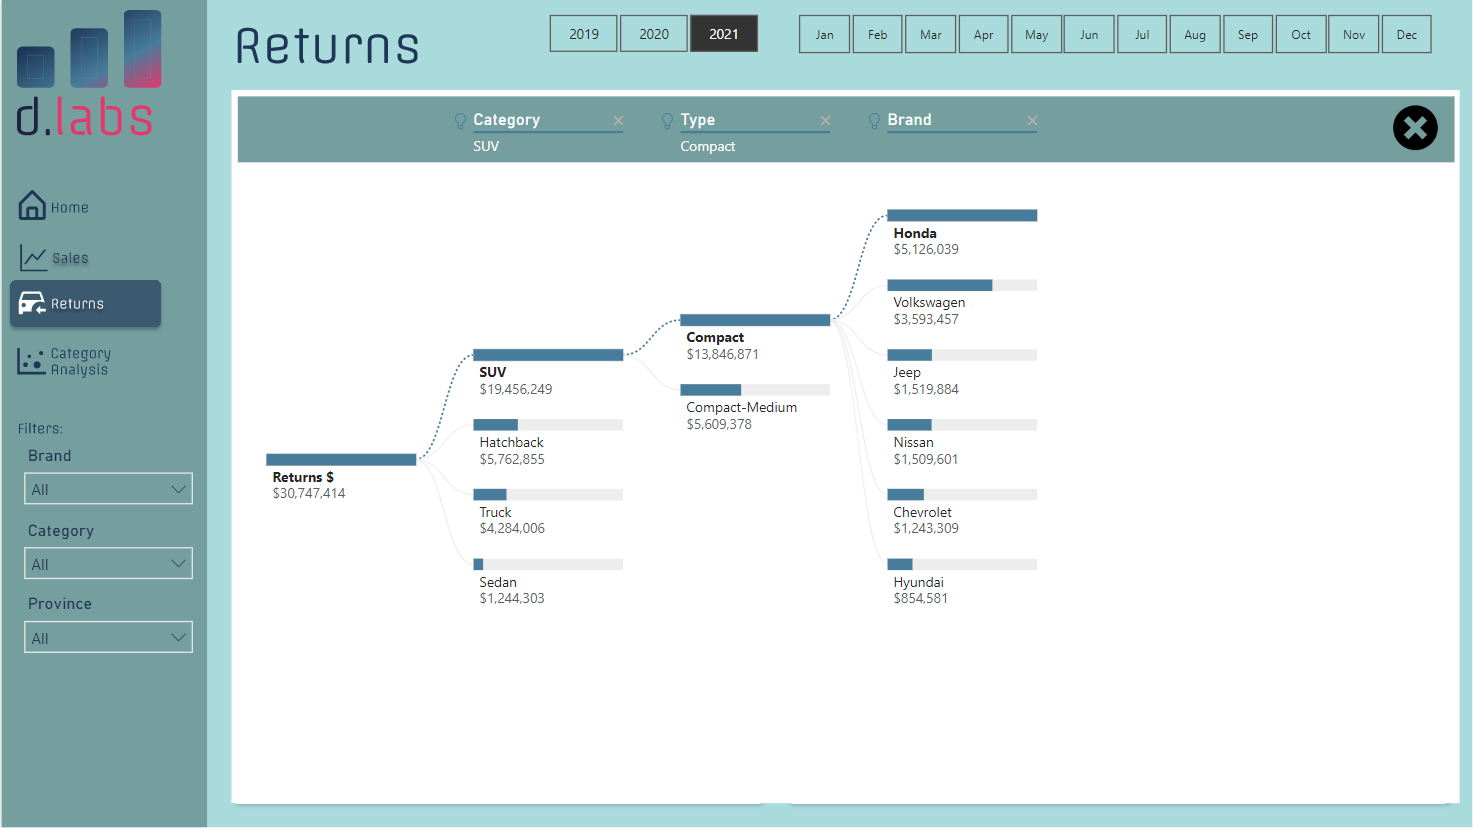

This screenshot's page, from the dashboard's own definition file:
{"tool":"powerbi","page":{"name":"Returns","canvas":[1280,720],"ordinal":2},"visuals":[{"type":"card","title":"Returns","fields":{"Values":["Measures (2).Returns $"]},"box":[249.5,93.7,156.8,64.2],"z":0},{"type":"card","title":"% Returns","fields":{"Values":["Measures (2).% Returns"]},"box":[503.2,93.7,156.8,64.2],"z":1000},{"type":"card","title":"Returns","fields":{"Values":["Measures (2).Returns Units"]},"box":[761.1,93.7,156.8,64.2],"z":2000},{"type":"slicer","title":"SlicerM","fields":{"Values":["dCalendar.Month mmm"]},"box":[668,6,600,47],"z":3000},{"type":"slicer","title":"SlicerY","fields":{"Values":["dCalendar.Year"]},"box":[451.6,6.3,230.5,46.3],"z":4000},{"type":"actionButton","box":[11.8,158.2,80,40],"z":5000},{"type":"actionButton","box":[11.8,202.7,80,40],"z":6000},{"type":"slicer","fields":{"Values":["dProdutos.Brand"]},"box":[10.4,382,167,62],"z":7000},{"type":"slicer","fields":{"Values":["dProdutos.Category"]},"box":[10.4,447,167,61],"z":8000},{"type":"slicer","fields":{"Values":["dClientes.Province"]},"box":[10.4,511,167,61],"z":9000},{"type":"actionButton","title":"Open Tree","box":[958,86,277,80],"z":10000},{"type":"tableEx","title":"Ret Product Table","fields":{"Values":["dProdutos.ImagemProduto","dProdutos.NomeProduto","Measures (2).Returns $","Measures (2).Returns Units","Measures (2).%Returns"]},"box":[206,243,454,455],"z":11000},{"type":"image","title":"Ret Prod","box":[515.5,195.5,144.5,50],"z":14000},{"type":"actionButton","title":"Bt Product","box":[522.7,207.3,54,22.7],"z":15000},{"type":"actionButton","title":"Bt Store","box":[586,207.3,54,22.7],"z":16000},{"type":"areaChart","title":"Ret by Month","fields":{"Category":["dCalendar.Month mmm"],"Y":["Measures (2).Returns $"]},"box":[683.6,242.7,571.8,155.5],"z":18000},{"type":"image","title":"Ret M","box":[1113.6,196.4,145.5,50],"z":20000},{"type":"actionButton","title":"Bt Year","box":[1123.3,207.3,54,22.7],"z":21000},{"type":"actionButton","title":"Bt Motnh","box":[1186.7,210,54,22.7],"z":22000},{"type":"clusteredBarChart","title":"Ret by Cat","fields":{"Category":["dProdutos.NomeCategoria"],"Y":["Measures (2).Returns $"]},"box":[684,461,575,237],"z":25000},{"type":"image","title":"Cat Retur","box":[1030,420.9,225,44.5],"z":28000},{"type":"actionButton","title":"Bt Cat","box":[1042.5,430,70.8,22.5],"z":29000},{"type":"actionButton","title":"Bt Size","box":[1113.3,430,64.2,22.5],"z":30000},{"type":"actionButton","title":"Bt Brand","box":[1183,429,63,23],"z":31000},{"type":"actionButton","box":[8,294,133,34],"z":34000}]}

Visuals, with their boxes on the page's 1280x720 design canvas (x1, y1, x2, y2). These are canvas units, not pixel positions in the 1473x828 screenshot, which may show the page scaled, cropped or inside an application window:
"Returns" card: region(250, 94, 406, 158)
"% Returns" card: region(503, 94, 660, 158)
"Returns" card: region(761, 94, 918, 158)
"SlicerM" slicer: region(668, 6, 1268, 53)
"SlicerY" slicer: region(452, 6, 682, 53)
actionButton: region(12, 158, 92, 198)
actionButton: region(12, 203, 92, 243)
slicer - dProdutos.Brand: region(10, 382, 177, 444)
slicer - dProdutos.Category: region(10, 447, 177, 508)
slicer - dClientes.Province: region(10, 511, 177, 572)
"Open Tree" actionButton: region(958, 86, 1235, 166)
"Ret Product Table" tableEx: region(206, 243, 660, 698)
"Ret Prod" image: region(516, 196, 660, 246)
"Bt Product" actionButton: region(523, 207, 577, 230)
"Bt Store" actionButton: region(586, 207, 640, 230)
"Ret by Month" areaChart: region(684, 243, 1255, 398)
"Ret M" image: region(1114, 196, 1259, 246)
"Bt Year" actionButton: region(1123, 207, 1177, 230)
"Bt Motnh" actionButton: region(1187, 210, 1241, 233)
"Ret by Cat" clusteredBarChart: region(684, 461, 1259, 698)
"Cat Retur" image: region(1030, 421, 1255, 465)
"Bt Cat" actionButton: region(1042, 430, 1113, 452)
"Bt Size" actionButton: region(1113, 430, 1178, 452)
"Bt Brand" actionButton: region(1183, 429, 1246, 452)
actionButton: region(8, 294, 141, 328)
